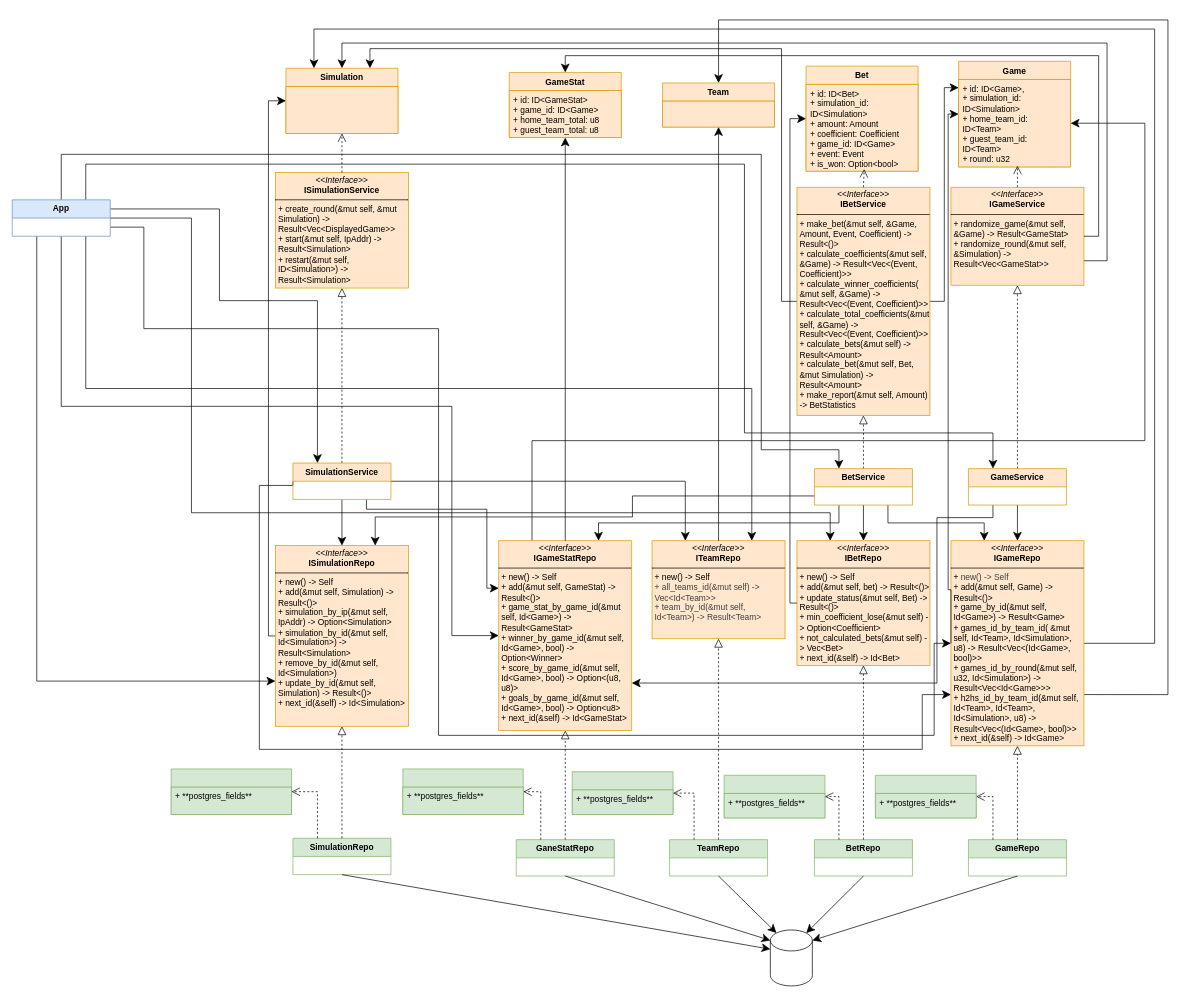
The diagram is 1189 pixels wide and 998 high, and some of its shapes have lost their labels. Each missing label, with the box of its shape:
+ id: ID<Simulation> + ip: IpAddr + round: u32 + balance: Amount: (285, 86, 398, 133)
+ id: ID<Team> + name: String: (662, 100, 775, 127)
BetPostgresModel: (723, 775, 825, 818)
DB: (770, 929, 812, 986)
GamePostgresModel: (875, 775, 976, 818)
GameStatPostgresModel: (402, 768, 523, 814)
SimulationPostgresModel: (170, 768, 292, 814)
TeamPostgresModel: (572, 771, 673, 814)
